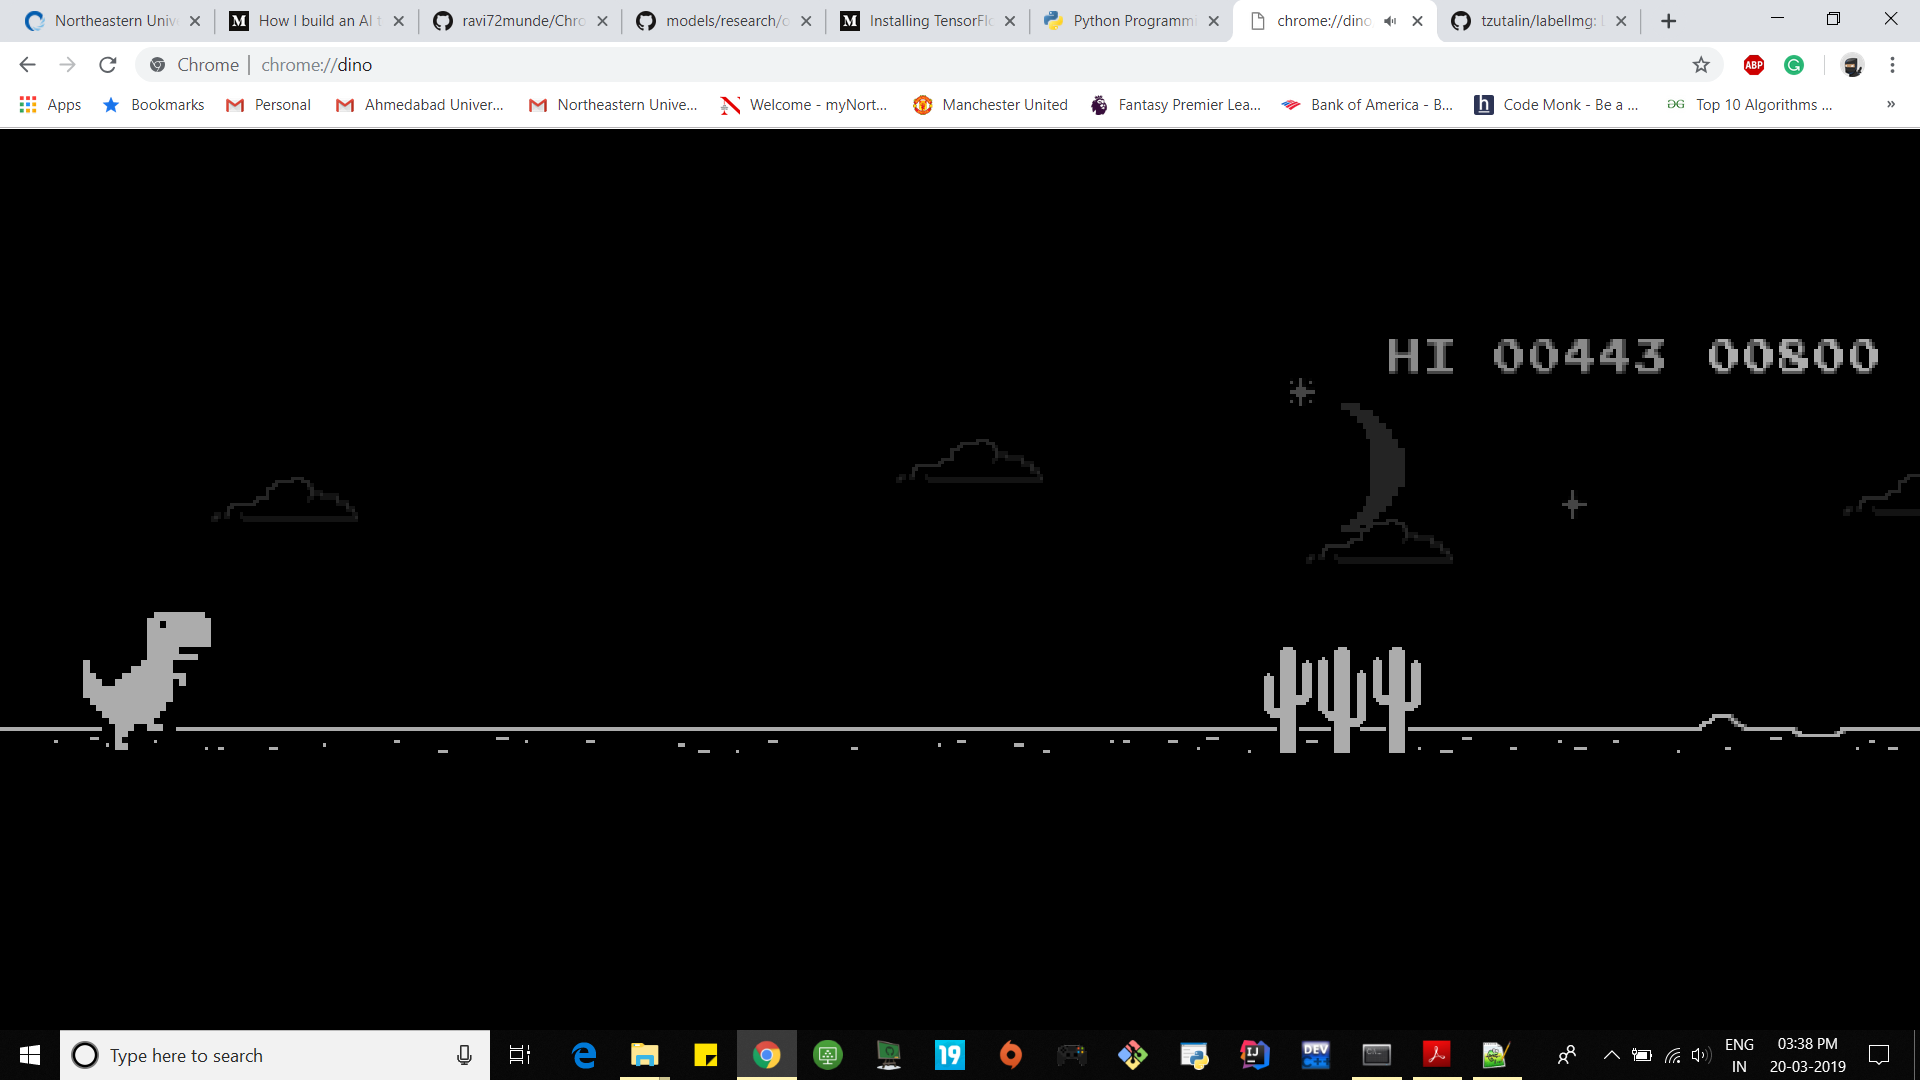cactus-3: (1255, 646, 1424, 757)
dino: (80, 611, 210, 753)
